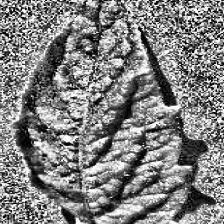spider mites: (17, 0, 192, 224)
